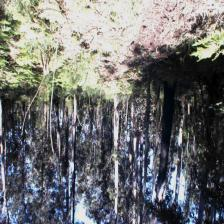trunktrack_idkeyframe: (160, 82, 177, 160), (144, 78, 151, 156)
